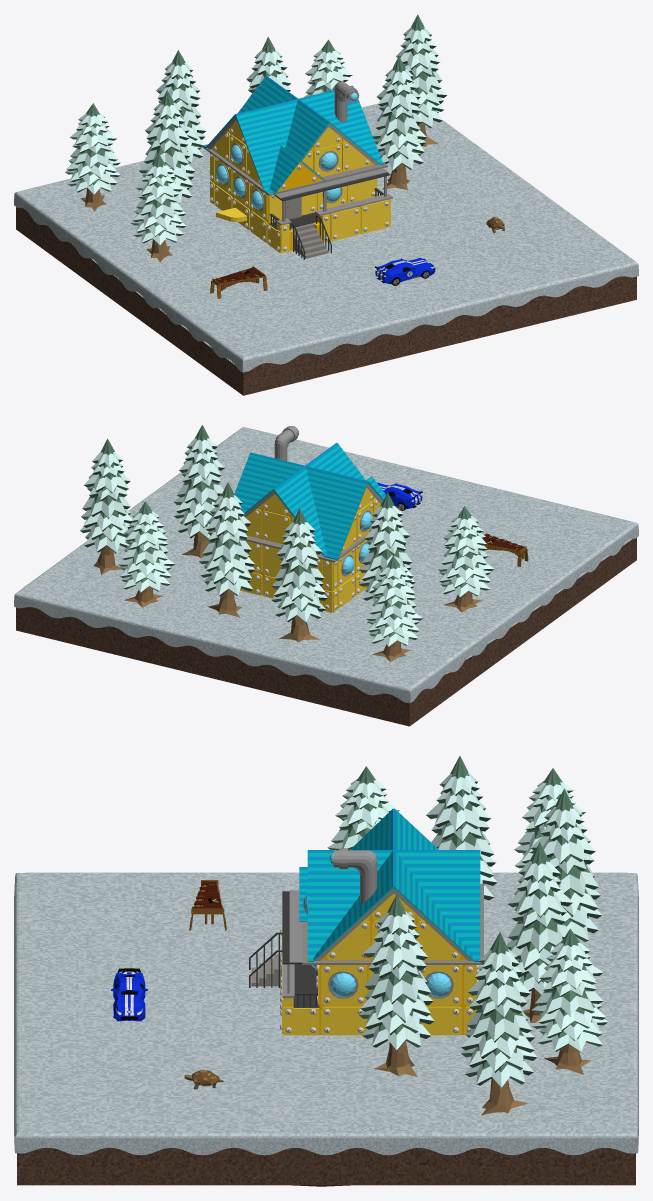
3 renders of one model, top to bottom at view 1: azimuth 30°, elevation 25°; view 2: azimuth 150°, elevation 25°; view 3: azimuth 270°, elevation 25°, orthographic. The views are drawn at different scales.
Visible parts, largest first — view 1: Cube.003, Cube.1366, VEHICLES_RACING_CAR, OBJRANDOM_MARIMBA; view 2: Cube.003, Cube.1366, VEHICLES_RACING_CAR, OBJRANDOM_MARIMBA; view 3: Cube.003, Cube.1366, VEHICLES_RACING_CAR, OBJRANDOM_MARIMBA.
Part boxes in pixels (x1,y1,x2,y2): Cube.003: [14, 14, 638, 395]; Cube.1366: [202, 76, 392, 259]; VEHICLES_RACING_CAR: [375, 258, 435, 285]; OBJRANDOM_MARIMBA: [210, 266, 267, 298]; Cube.003: [14, 425, 638, 726]; Cube.1366: [234, 426, 405, 612]; VEHICLES_RACING_CAR: [377, 482, 422, 510]; OBJRANDOM_MARIMBA: [483, 533, 528, 566]; Cube.003: [14, 756, 638, 1185]; Cube.1366: [249, 808, 483, 1035]; VEHICLES_RACING_CAR: [111, 968, 147, 1021]; OBJRANDOM_MARIMBA: [189, 880, 226, 930].
Bounding box in the file's own units: 4040 × 1758 × 4040.
38 materials, 3 textured.
